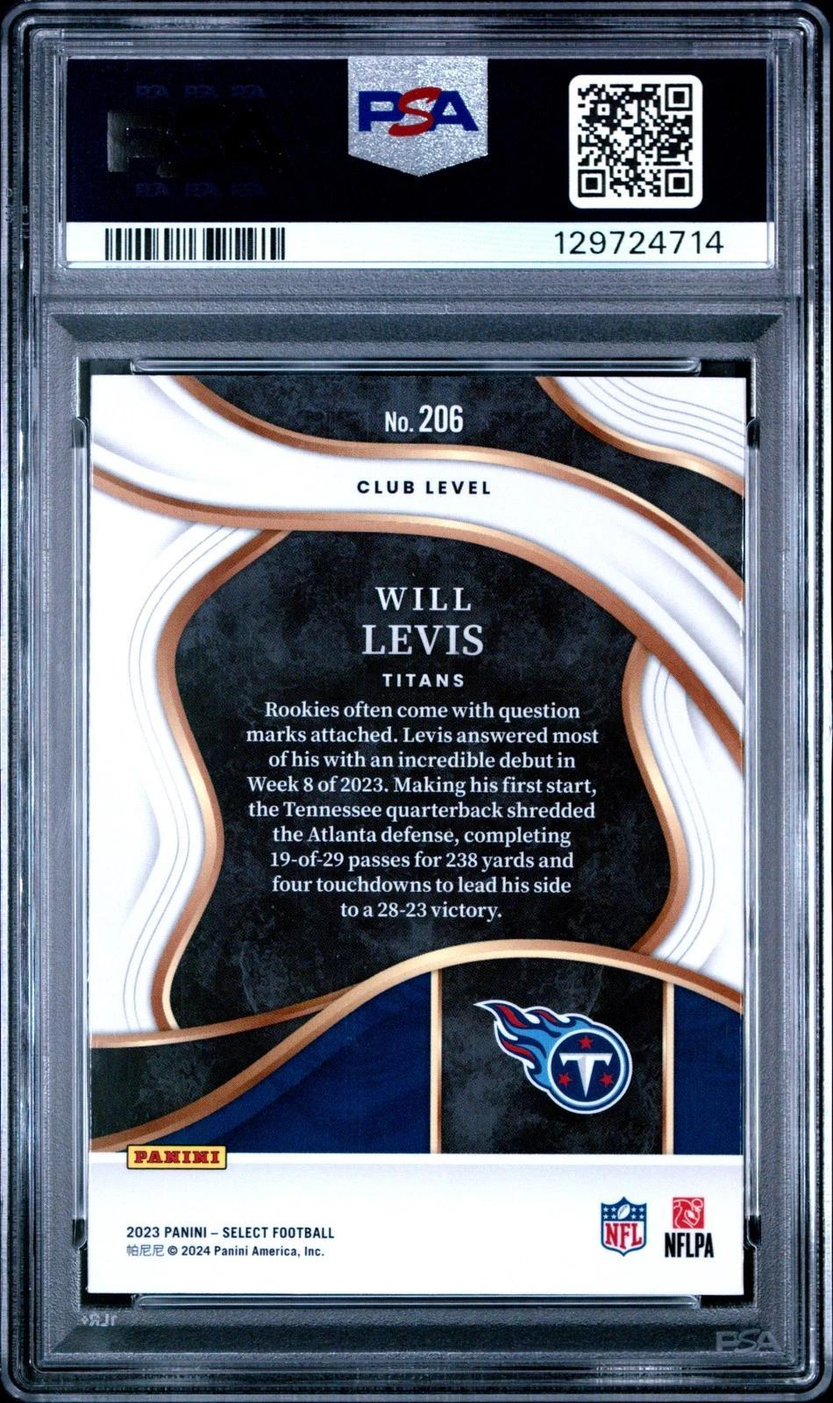card-2UtV: (87, 372, 747, 1296)
